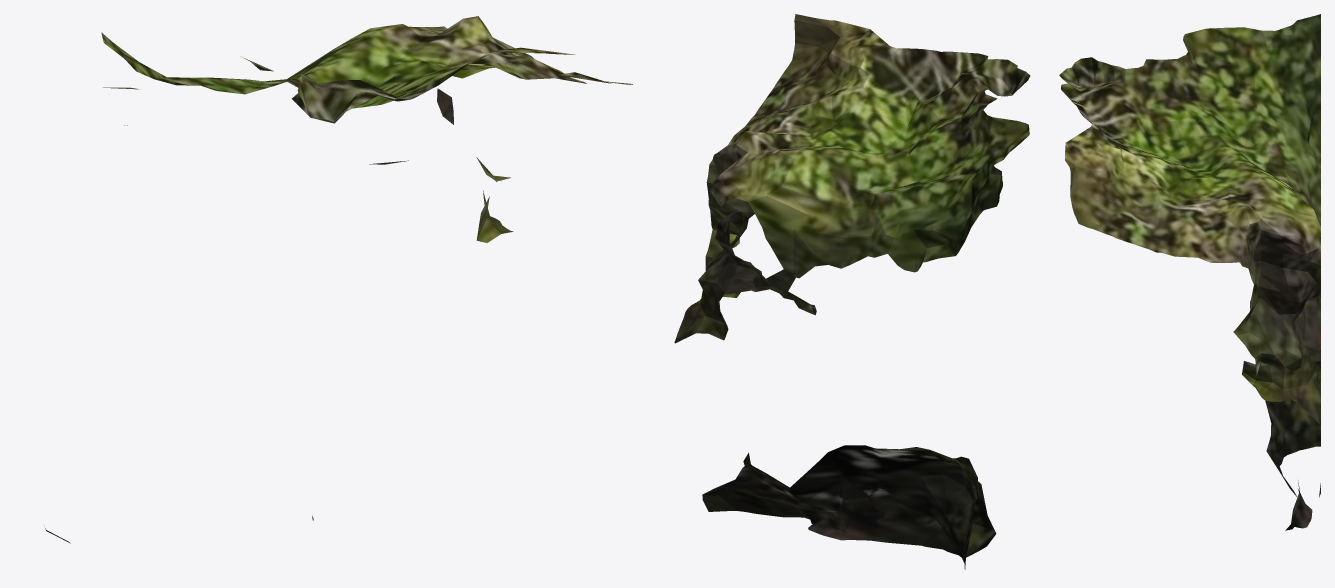
3 views of the same model, side by side, from view 1: azimuth 30°, elevation 25°; view 2: azimuth 150°, elevation 25°; view 3: azimuth 270°, elevation 25° (orthographic). The views are drawn at different scales.
Bounding box in the file's own units: 1.44 × 1.67 × 0.9635.
2 materials, 2 textured.
